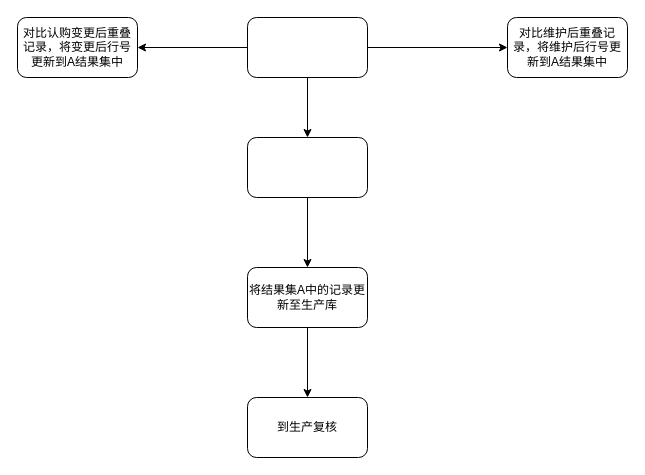
Image size: 645x475. Some labels were removed from this diagram. The centre of each missing label's shape, as x and y in pixels:
A 核对后，大额行号与合同不一致的列表: point 307,47
备份生产订单数据: point 307,167
